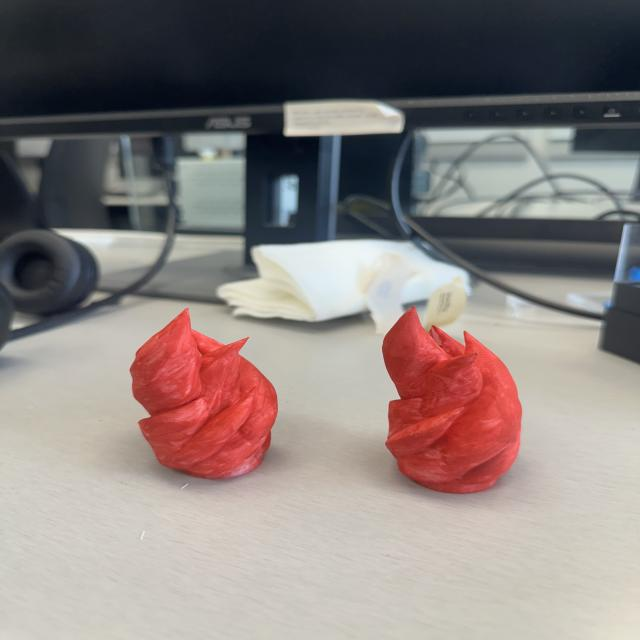fire: (128, 306, 282, 480), (381, 306, 523, 494)
